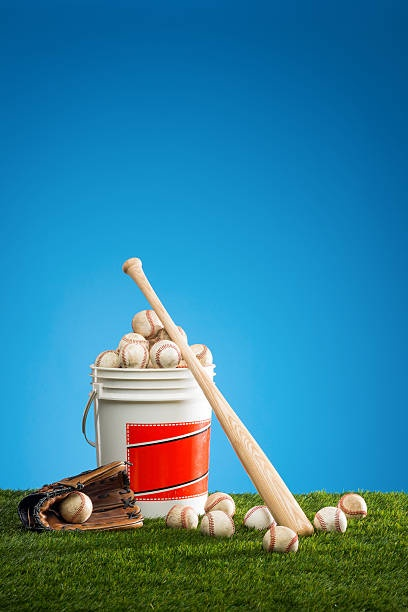bita: (121, 257, 315, 534)
